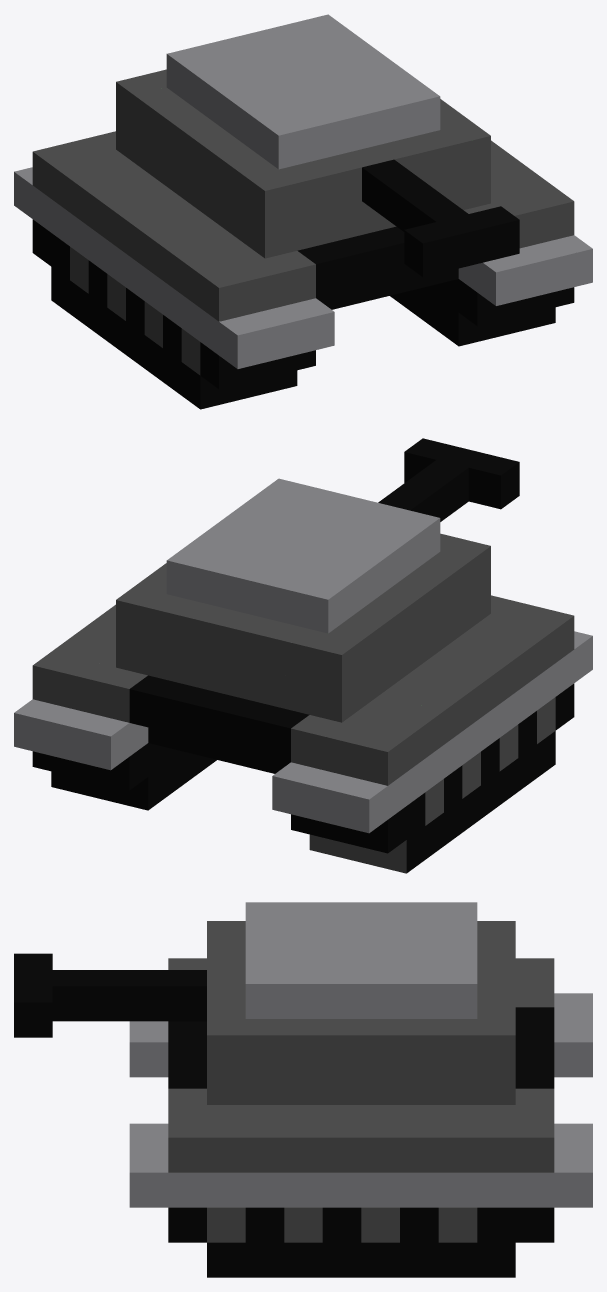
Rendered from armor.glb.
3 renders of one model, top to bottom at view 1: azimuth 30°, elevation 25°; view 2: azimuth 150°, elevation 25°; view 3: azimuth 270°, elevation 25°, orthographic. The views are drawn at different scales.
Visible parts, largest first — view 1: armor; view 2: armor; view 3: armor.
Boxes of the visible parts, x1,y1,x2,y2 form: armor: (14, 14, 592, 409); armor: (14, 438, 592, 873); armor: (14, 902, 592, 1277).
Size of the model in its own units: 0.5259 by 0.3347 by 0.7172.
Materials: 1 (1 with a texture image).
